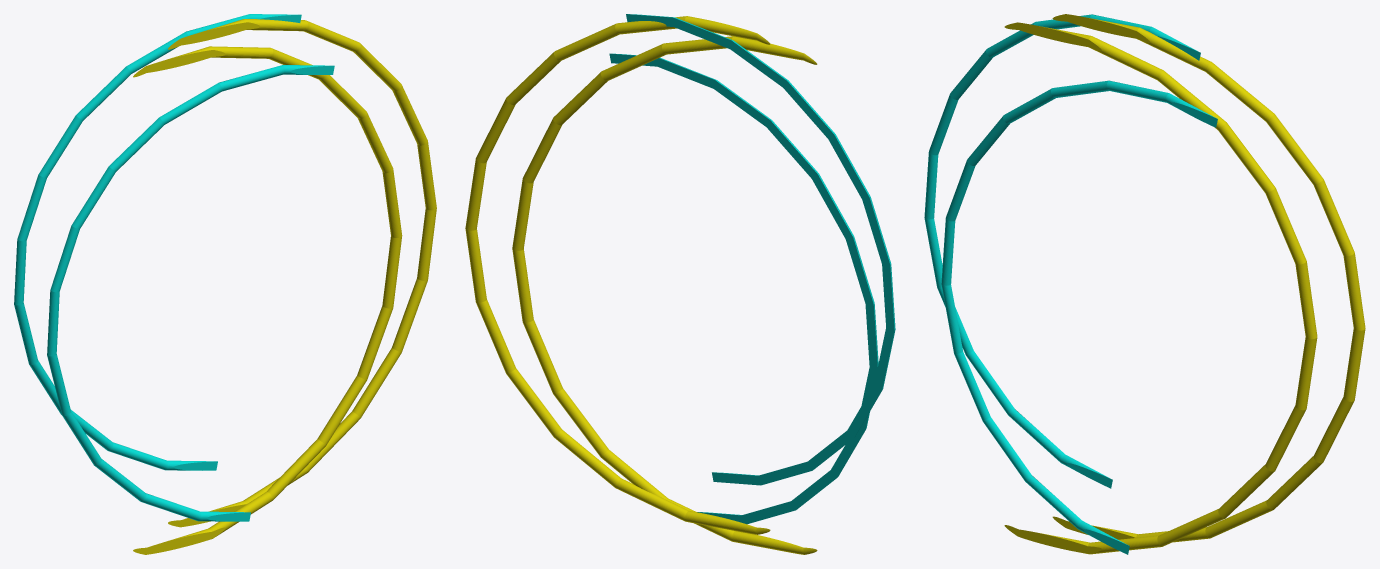
File: SkyRings.obj
3 views of the same model, side by side, from view 1: azimuth 30°, elevation 25°; view 2: azimuth 150°, elevation 25°; view 3: azimuth 330°, elevation 25° (orthographic). The views are drawn at different scales.
Visible parts, largest first — view 1: Object.1, Object.4, Object.3, Object.2; view 2: Object.4, Object.1, Object.2, Object.3; view 3: Object.1, Object.4, Object.3, Object.2.
Boxes of the visible parts, bbox=[...] form: Object.1: bbox=[133, 46, 402, 554]; Object.4: bbox=[168, 19, 436, 527]; Object.3: bbox=[47, 65, 334, 521]; Object.2: bbox=[14, 14, 301, 470]; Object.4: bbox=[465, 16, 770, 534]; Object.1: bbox=[512, 36, 817, 554]; Object.2: bbox=[626, 14, 895, 485]; Object.3: bbox=[609, 53, 878, 524]; Object.1: bbox=[1004, 22, 1317, 554]; Object.4: bbox=[1052, 14, 1365, 542]; Object.3: bbox=[941, 80, 1217, 554]; Object.2: bbox=[924, 14, 1200, 488].
Size of the model in its own units: 96.97 by 112 by 8.95.
